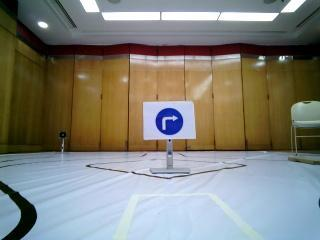right: (143, 100, 197, 140)
